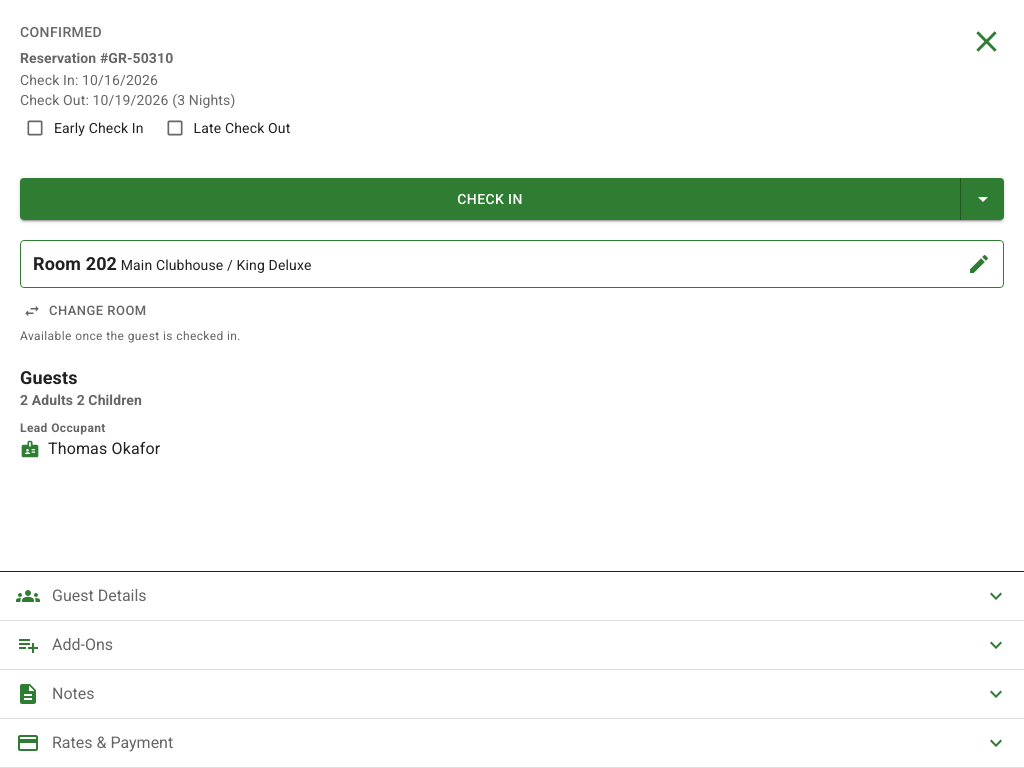
Test case: reservation menu by state › says so when the registration card cannot be opened
What coordinates should you click on to do the following:
click the button named "More reservation actions"
I would click on:
 (983, 199)
Its box is [961, 178, 1004, 220].
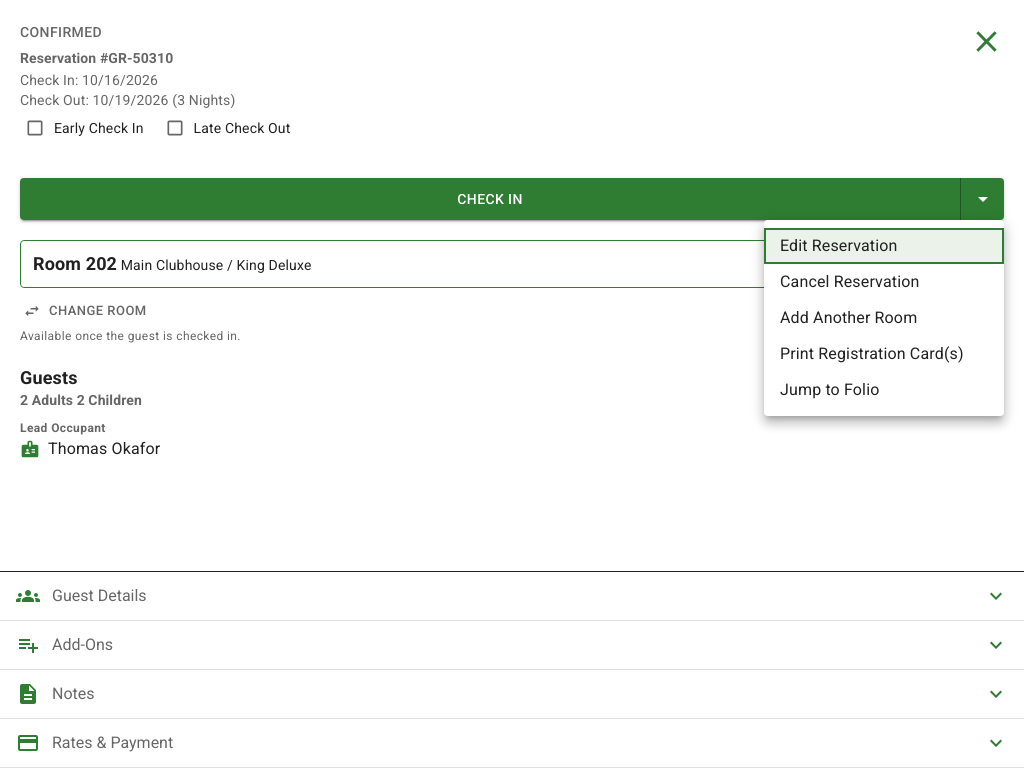
What coordinates should you click on to do the following:
click the menu item "Print Registration Card(s)"
I would click on:
 (872, 354)
Its box is [780, 344, 964, 363].
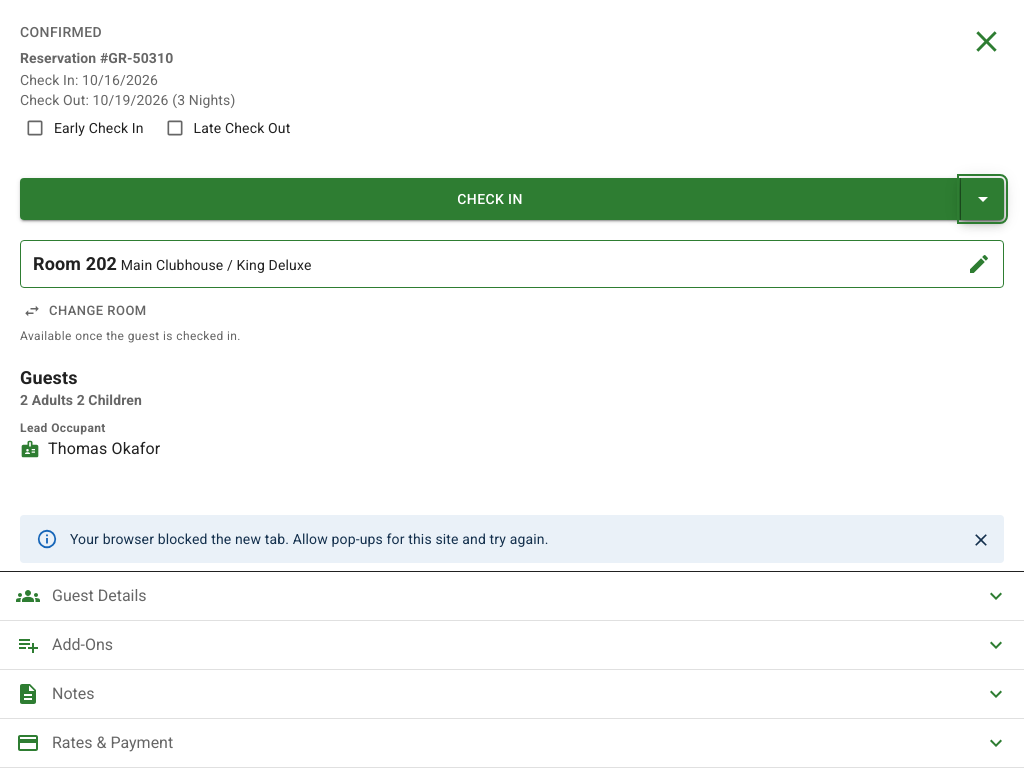
Result: the text "blocked the new tab" is shown at [70, 531, 548, 547]
